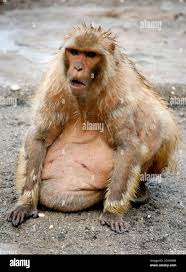monkey: (18, 14, 154, 246)
